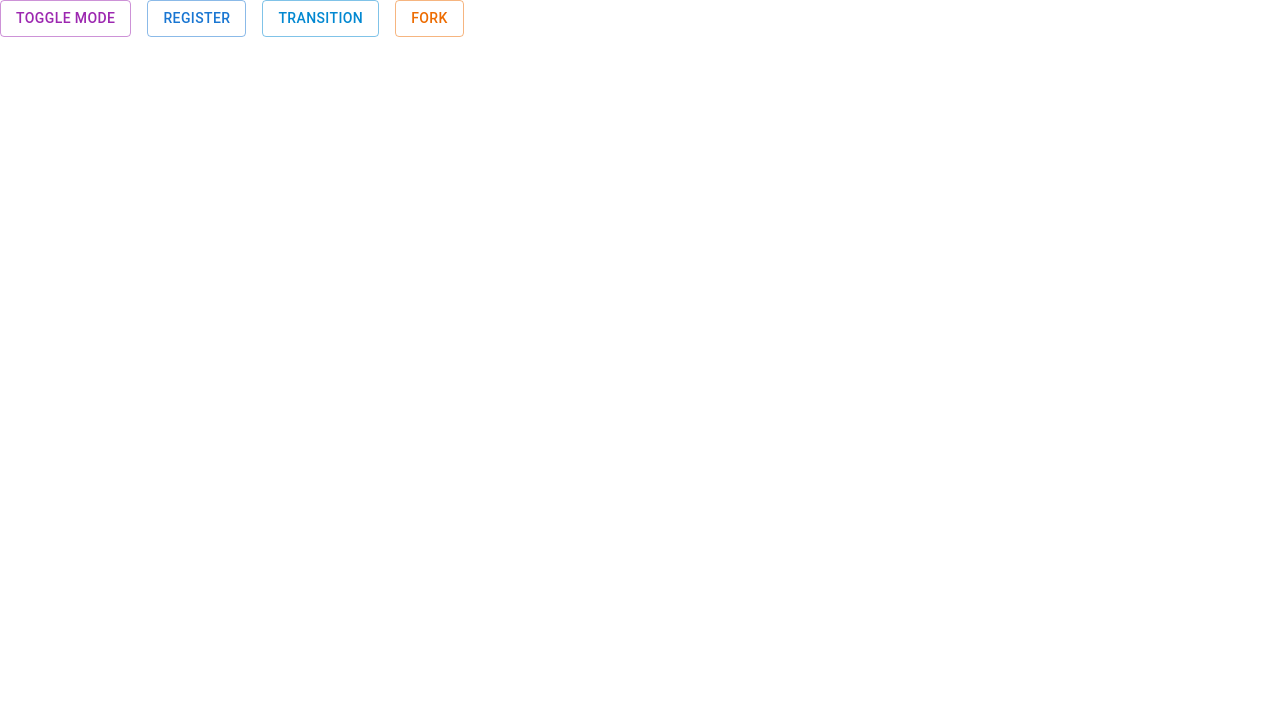
it: CapabilityActions › opens transition dialog when transition button is clicked
What coordinates should you click on to do the following:
click the button "Transition"
I would click on:
 (321, 18)
Its box is left=262, top=0, right=379, bottom=36.
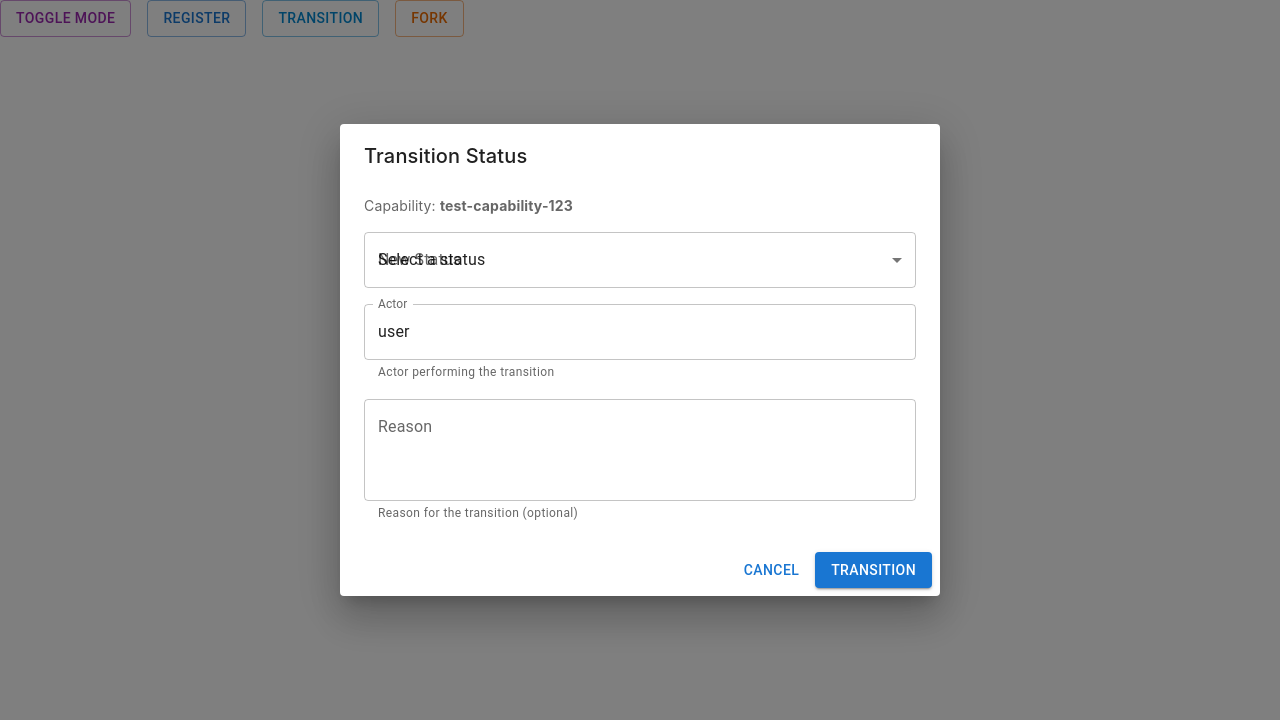
Expected: the element with test id "transition-dialog" is shown
